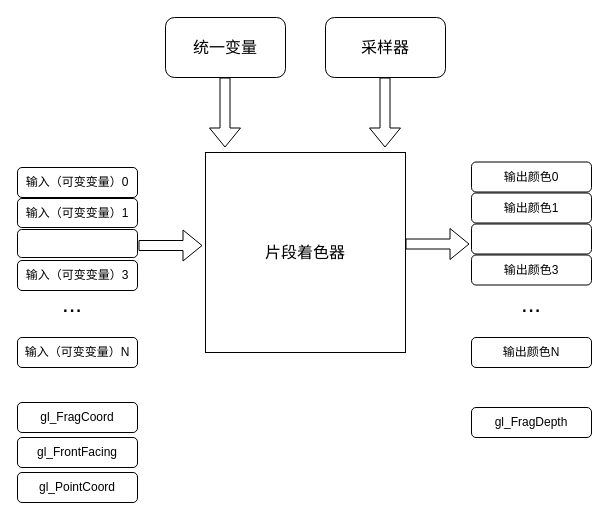
The diagram is 609 pixels wide and 520 high, and some of its shapes have lost their labels. Each missing label, with the centre of its shape:
"输入（ 可变变量 ）2" goes at (x=77, y=243).
"输出 颜色 2" goes at (x=531, y=238).
